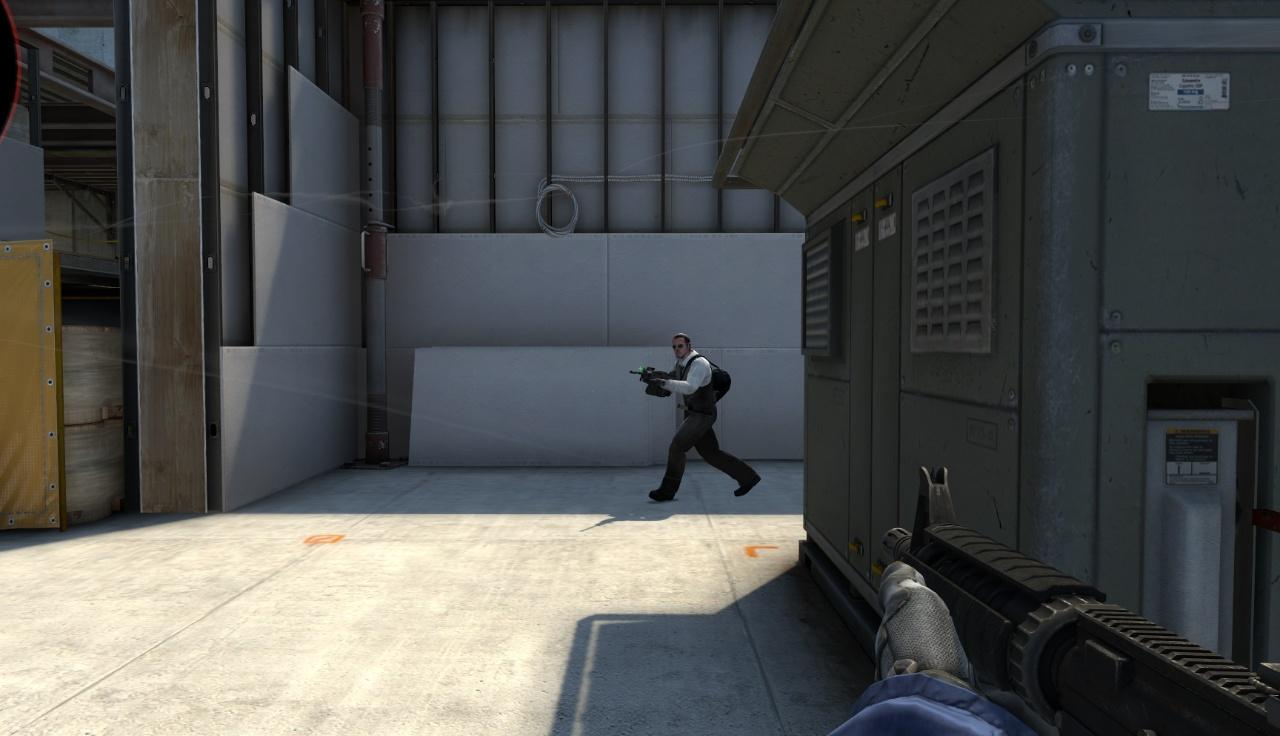rifle: (861, 464, 1278, 733)
tt: (646, 331, 761, 500)
tthead: (672, 333, 691, 358)
